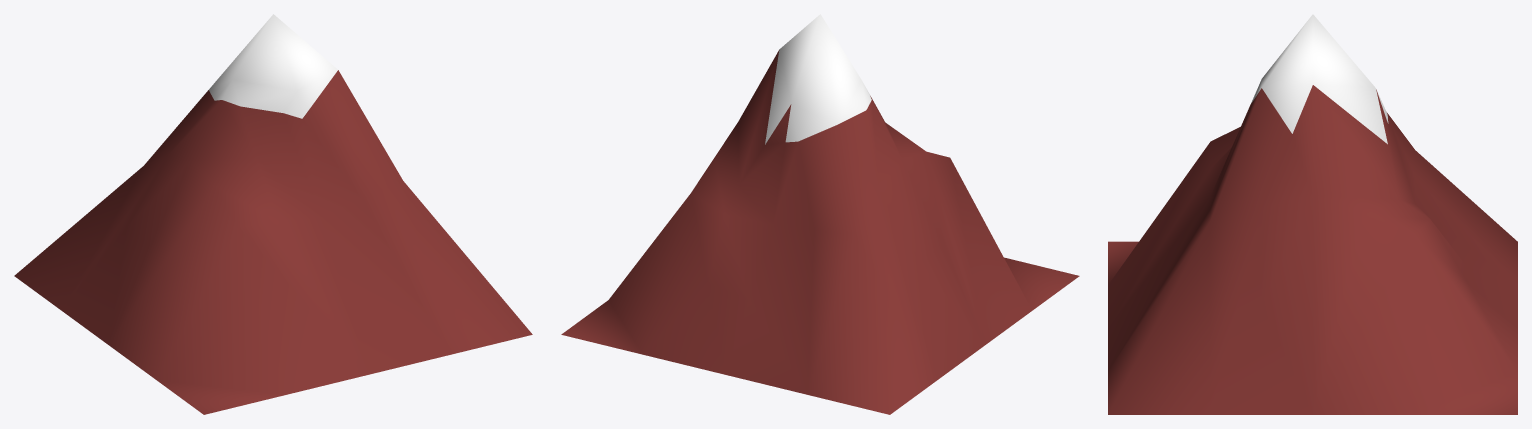
File: BackgroundMountain.fbx
3 renders of one model, left to right at view 1: azimuth 30°, elevation 25°; view 2: azimuth 150°, elevation 25°; view 3: azimuth 270°, elevation 25°, orthographic. The views are drawn at different scales.
Visible parts, largest first — view 1: Plane; view 2: Plane; view 3: Plane.
Part boxes in pixels (bbox=[...]): Plane: bbox=[14, 14, 532, 414]; Plane: bbox=[561, 14, 1079, 414]; Plane: bbox=[1108, 14, 1517, 414].
Size of the model in its own units: 1000 by 846 by 1000.
